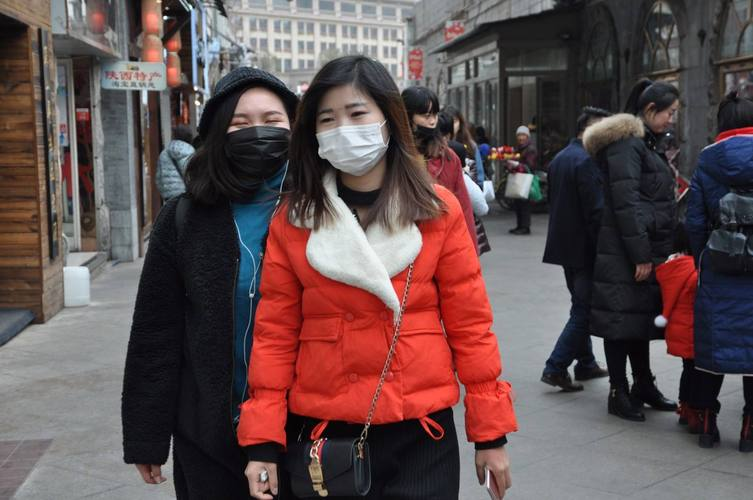no_mask: (315, 87, 390, 173), (224, 85, 293, 174)
